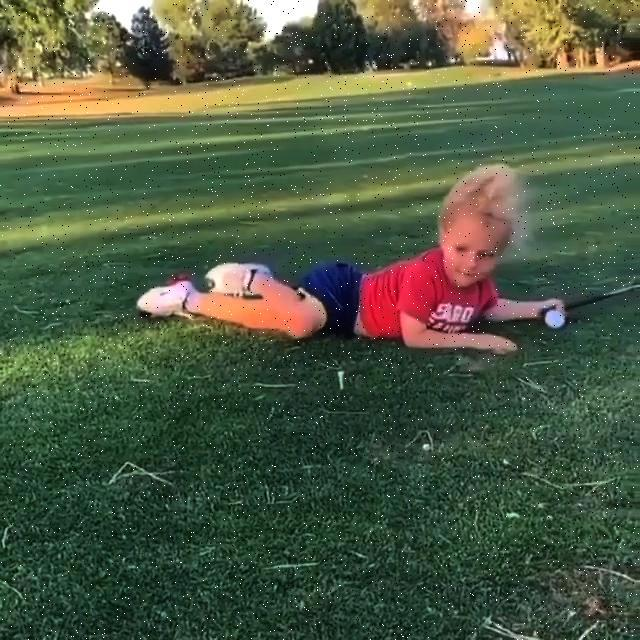golf ball: (543, 310, 565, 328)
golf club-handle: (535, 283, 640, 321)
